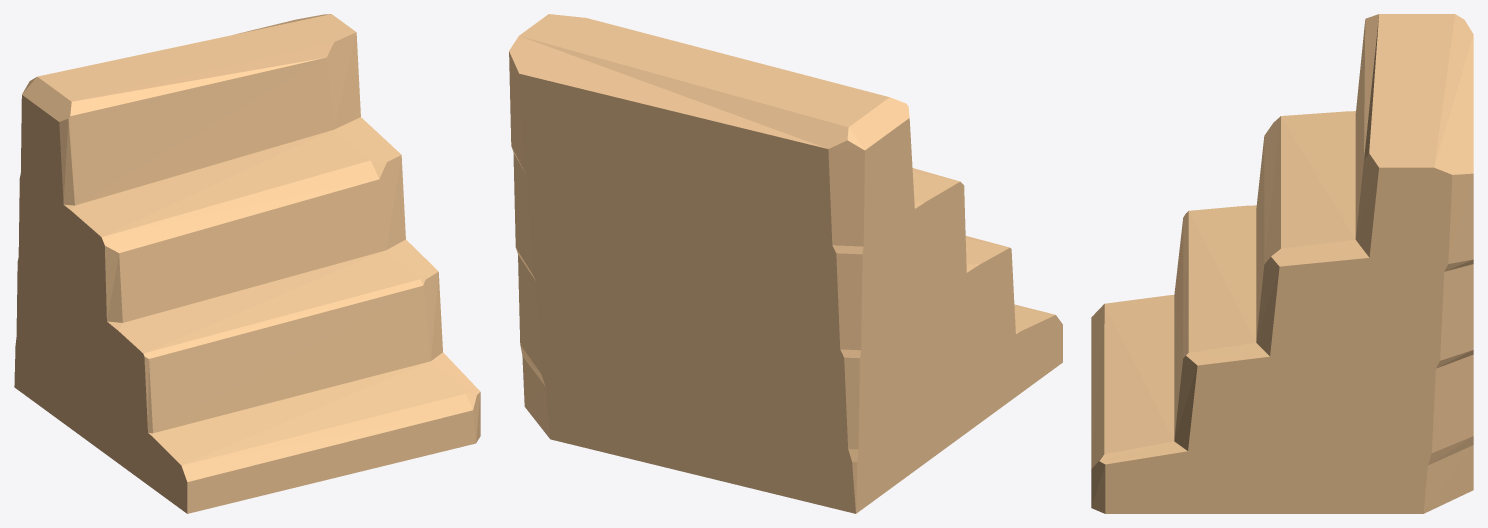
Rendered from 3D_Ladder.FBX.
3 views of the same model, side by side, from view 1: azimuth 30°, elevation 25°; view 2: azimuth 150°, elevation 25°; view 3: azimuth 270°, elevation 25° (orthographic). The views are drawn at different scales.
Visible parts, largest first — view 1: 3D_ladder; view 2: 3D_ladder; view 3: 3D_ladder.
Part boxes in pixels (box(x1,y1,x2,y2)): 3D_ladder: box(14, 14, 480, 513); 3D_ladder: box(509, 14, 1062, 513); 3D_ladder: box(1091, 14, 1473, 513).
Bounding box in the file's own units: 100 × 100 × 100.
Materials: 1 (1 with a texture image).
